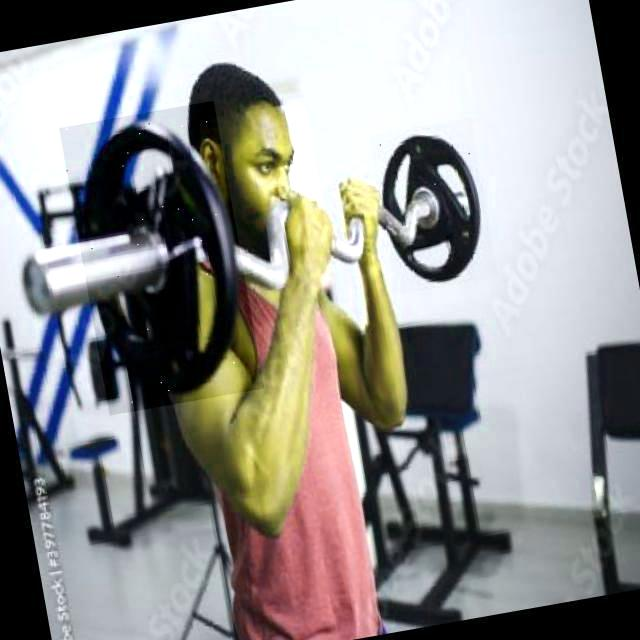barbell: (60, 101, 265, 415), (369, 118, 500, 296)
